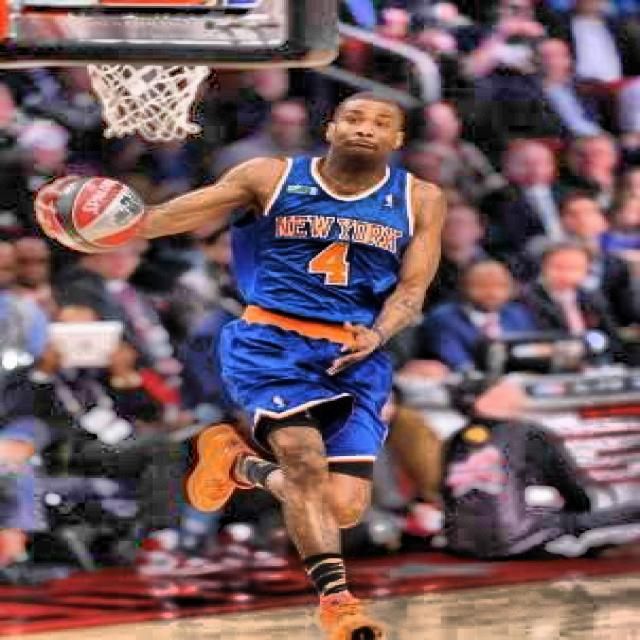board: (48, 178, 147, 253)
rim: (80, 62, 206, 141)
